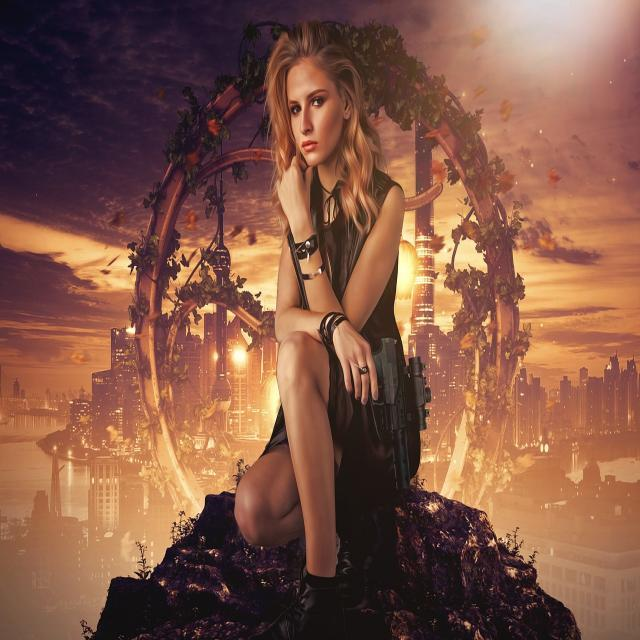Gun: (372, 338, 431, 488)
